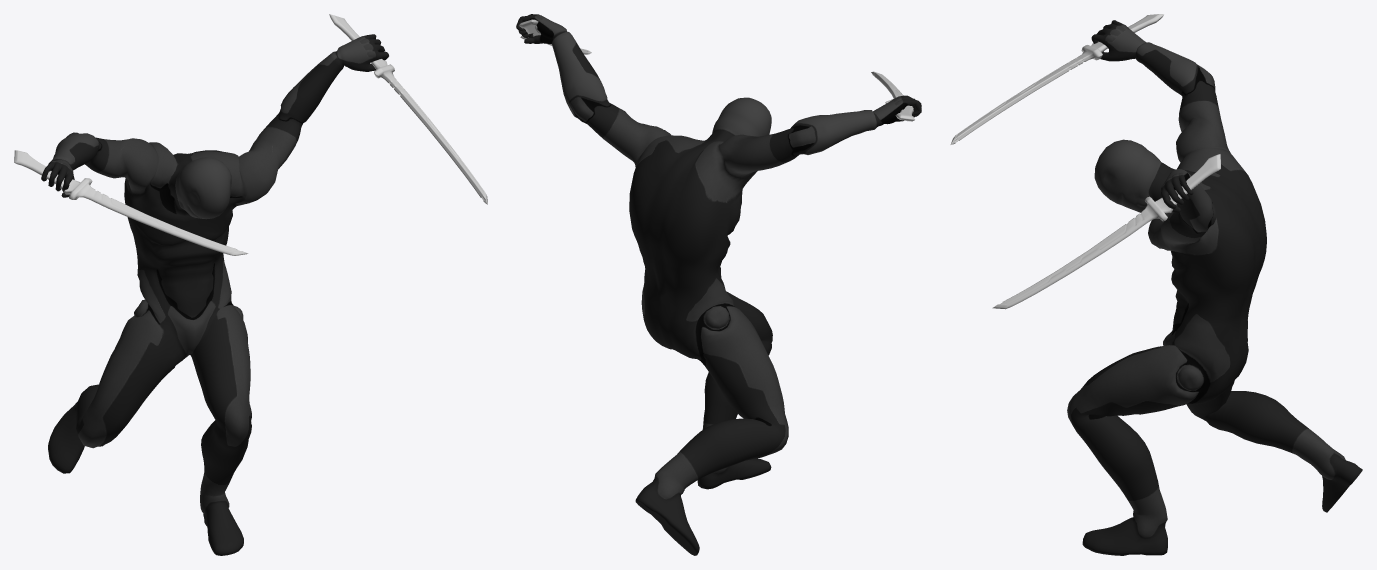
3 renders of one model, left to right at view 1: azimuth 30°, elevation 25°; view 2: azimuth 150°, elevation 25°; view 3: azimuth 270°, elevation 25°, orthographic. The views are drawn at different scales.
Visible parts, largest first — view 1: Cyborg_Ninja_Killer, Sword_l001, Sword_l; view 2: Cyborg_Ninja_Killer, Sword_l001; view 3: Cyborg_Ninja_Killer, Sword_l, Sword_l001.
Boxes of the visible parts, x1,y1,x2,y2 form: Cyborg_Ninja_Killer: [41, 34, 388, 555]; Sword_l001: [14, 150, 247, 255]; Sword_l: [329, 14, 487, 204]; Cyborg_Ninja_Killer: [516, 14, 921, 555]; Sword_l001: [871, 71, 914, 121]; Cyborg_Ninja_Killer: [1067, 20, 1362, 555]; Sword_l: [992, 154, 1220, 309]; Sword_l001: [950, 14, 1163, 144].
Bounding box in the file's own units: 158 × 169 × 133.
